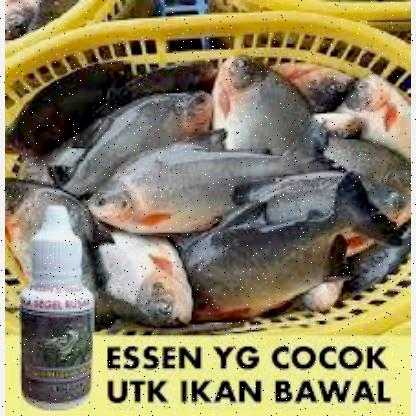ikan-pacu: (178, 194, 378, 314), (86, 138, 304, 228), (88, 230, 202, 327), (209, 52, 309, 156)
